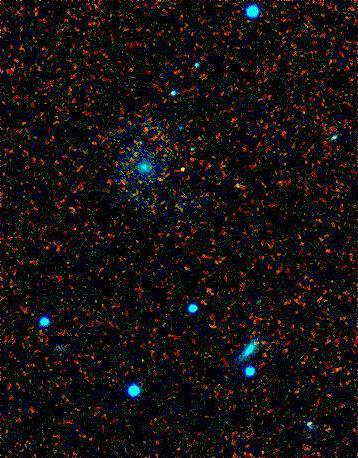star: (168, 151, 198, 181)
